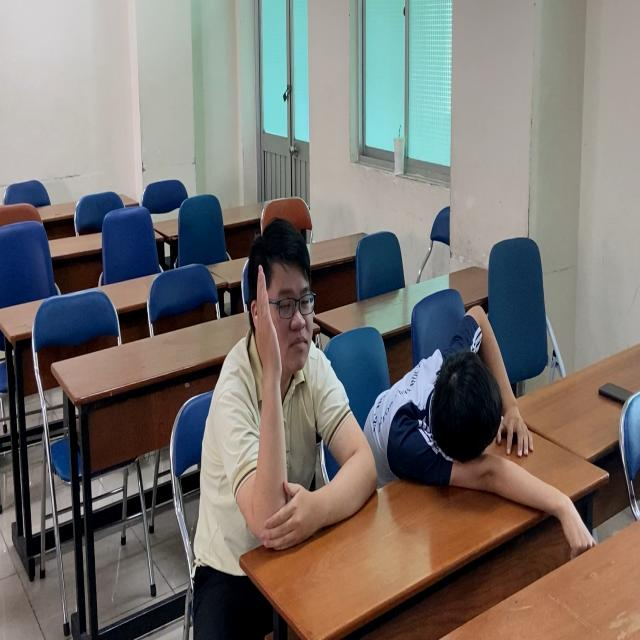raise_hand: (201, 216, 357, 545)
